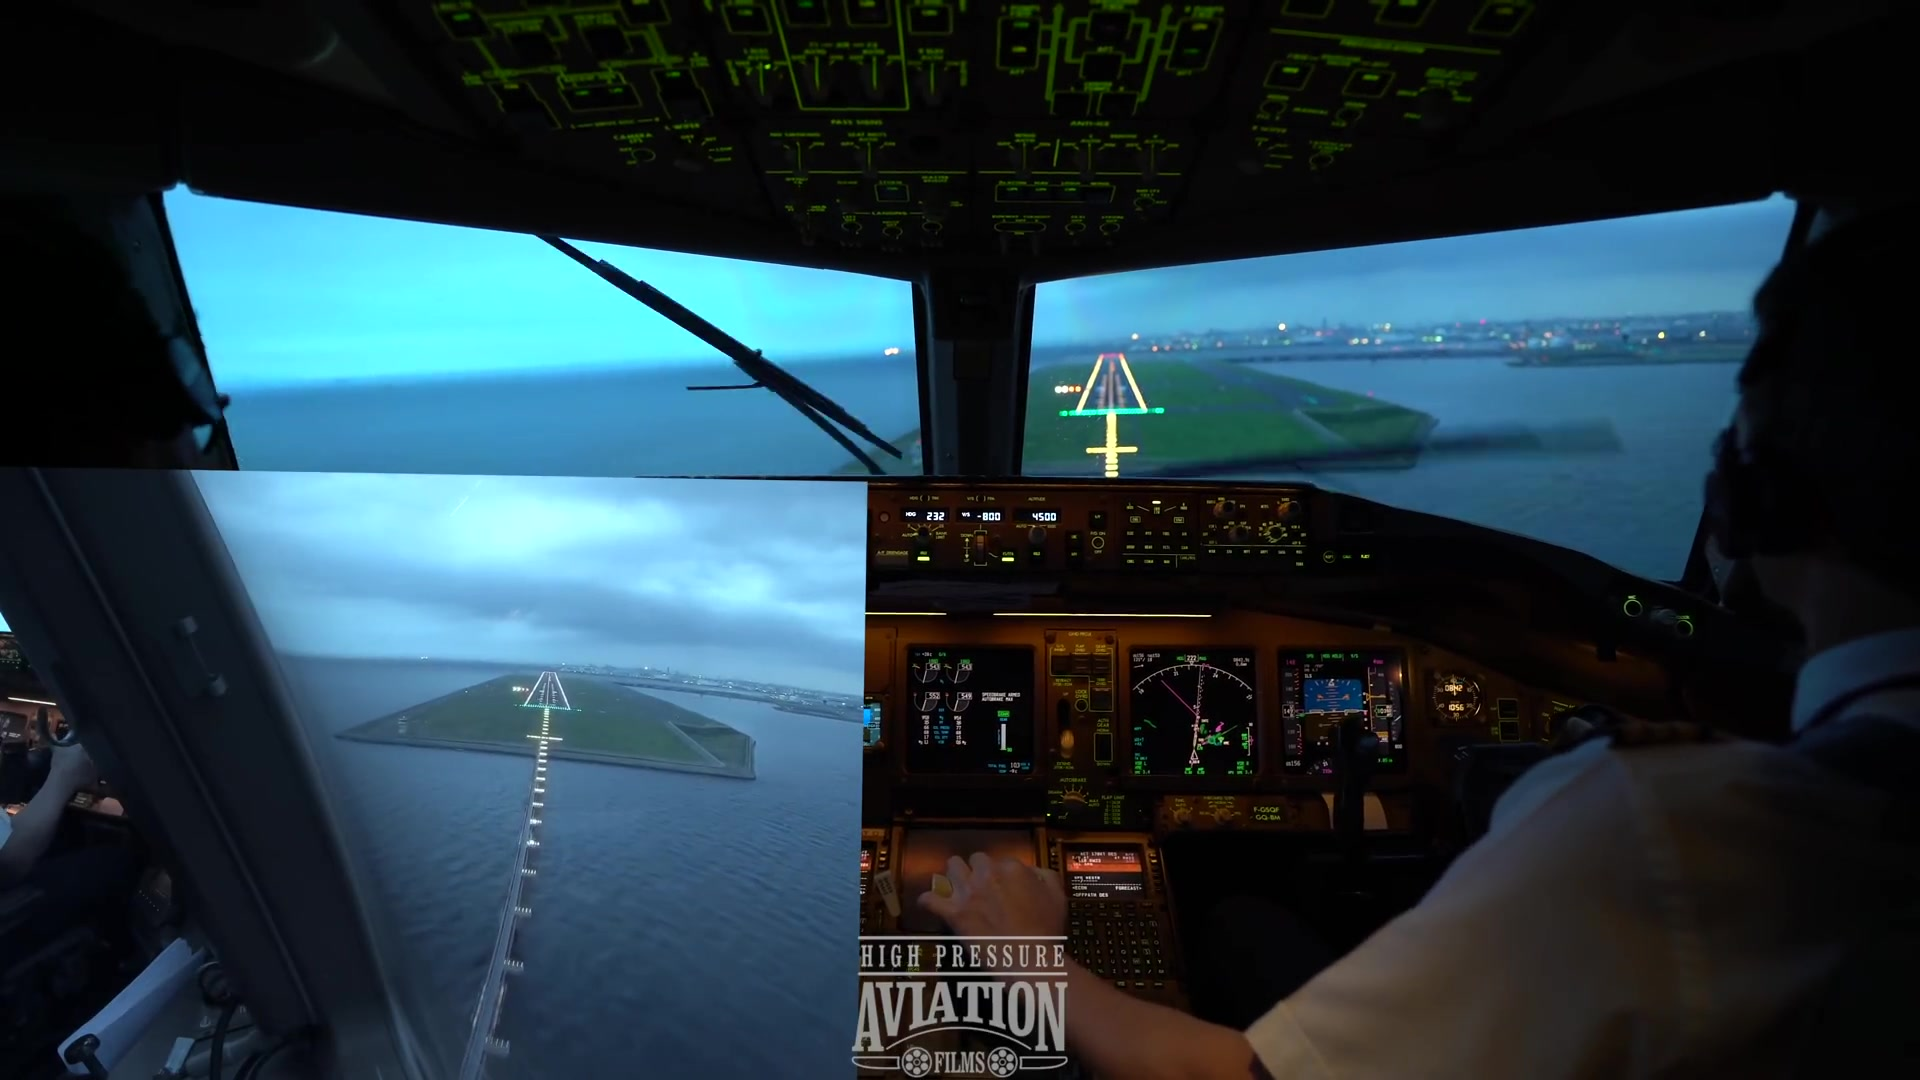runway: (1064, 349, 1154, 411), (522, 673, 572, 715)
